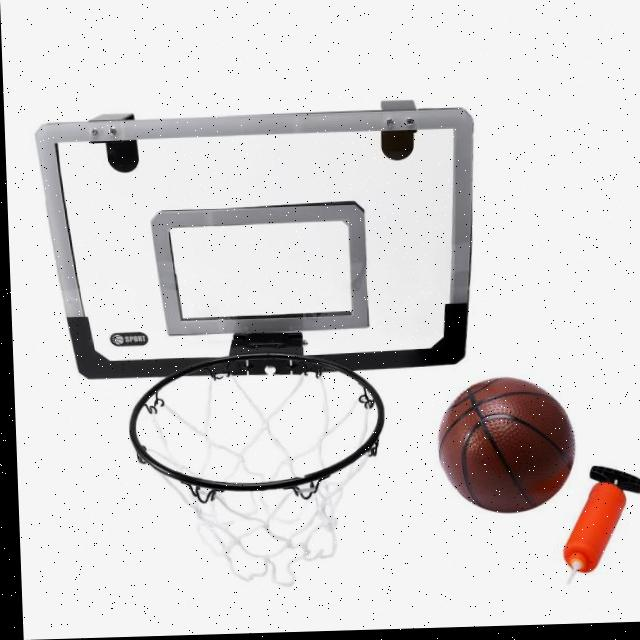Basketball: (437, 375, 578, 515)
hoop: (127, 349, 391, 592)
